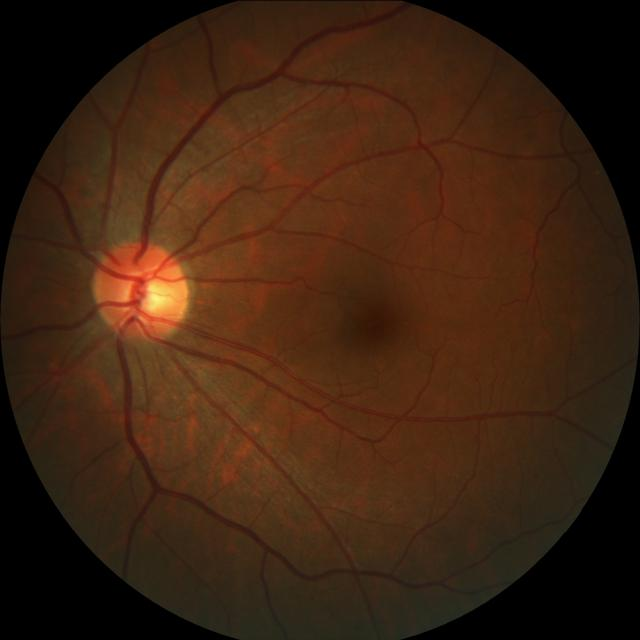OC: (124, 272, 170, 316)
OD: (91, 240, 188, 341)
